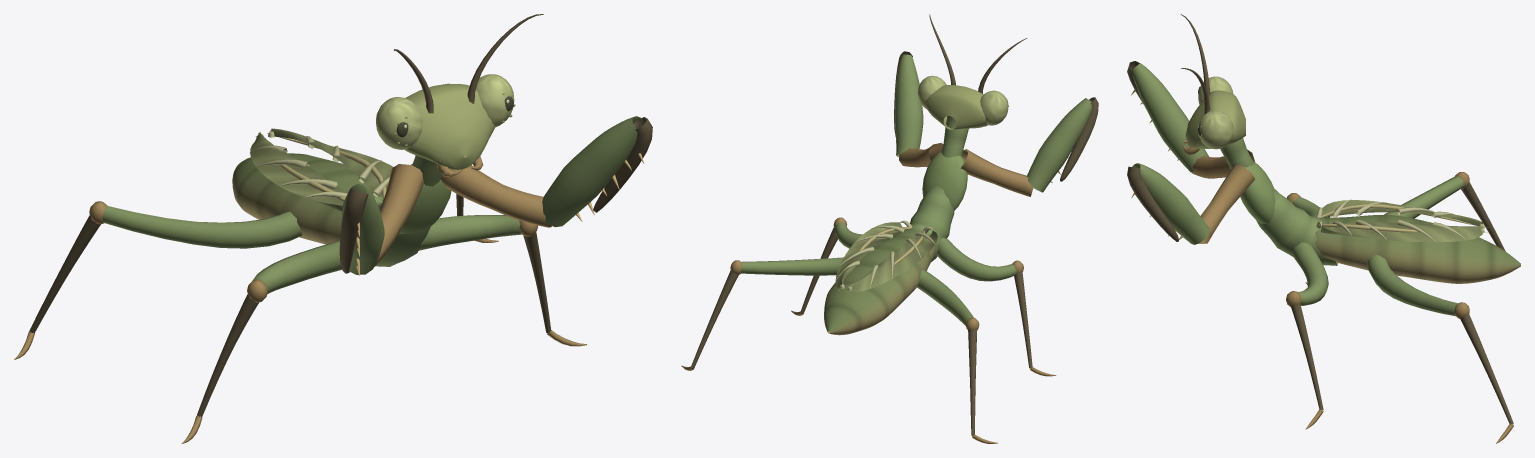
Rendered from mantis.glb.
The picture shows the model from 3 angles, left to right: view 1: azimuth 30°, elevation 25°; view 2: azimuth 150°, elevation 25°; view 3: azimuth 270°, elevation 25°; orthographic projection. The views are drawn at different scales.
Parts seen in each view (by area): view 1: body, arm_1, leg_-1_1, arm_-1, leg_-1_0, leg_1_0, wing_-1, wing_1; view 2: body, arm_-1, arm_1, leg_1_1, leg_-1_0, leg_-1_1, wing_-1, wing_1, leg_1_0; view 3: body, arm_1, arm_-1, leg_1_1, wing_1, leg_1_0, leg_-1_1, wing_-1, leg_-1_0.
Boxes of the visible parts, x1=… form: body: x1=232, y1=14, x2=543, y2=266; arm_1: x1=440, y1=116, x2=652, y2=227; leg_-1_1: x1=14, y1=201, x2=302, y2=359; arm_-1: x1=339, y1=164, x2=423, y2=275; leg_-1_0: x1=181, y1=240, x2=341, y2=443; leg_1_0: x1=419, y1=215, x2=587, y2=346; wing_-1: x1=250, y1=132, x2=347, y2=211; wing_1: x1=267, y1=128, x2=393, y2=201; body: x1=824, y1=14, x2=1027, y2=335; arm_-1: x1=960, y1=97, x2=1098, y2=196; arm_1: x1=894, y1=51, x2=943, y2=167; leg_1_1: x1=681, y1=257, x2=843, y2=370; leg_-1_0: x1=937, y1=238, x2=1056, y2=376; leg_-1_1: x1=917, y1=270, x2=997, y2=443; wing_-1: x1=847, y1=226, x2=937, y2=291; wing_1: x1=835, y1=220, x2=912, y2=290; leg_1_0: x1=791, y1=217, x2=862, y2=315; body: x1=1180, y1=14, x2=1520, y2=283; arm_1: x1=1127, y1=163, x2=1255, y2=244; arm_-1: x1=1127, y1=61, x2=1255, y2=178; leg_1_1: x1=1367, y1=255, x2=1513, y2=443; wing_1: x1=1316, y1=220, x2=1488, y2=242; leg_1_0: x1=1286, y1=242, x2=1328, y2=429; leg_-1_1: x1=1384, y1=172, x2=1505, y2=251; wing_-1: x1=1316, y1=199, x2=1488, y2=228; leg_-1_0: x1=1286, y1=193, x2=1319, y2=284.
Bounding box in the file's own units: 2.33 × 1.95 × 2.21.
